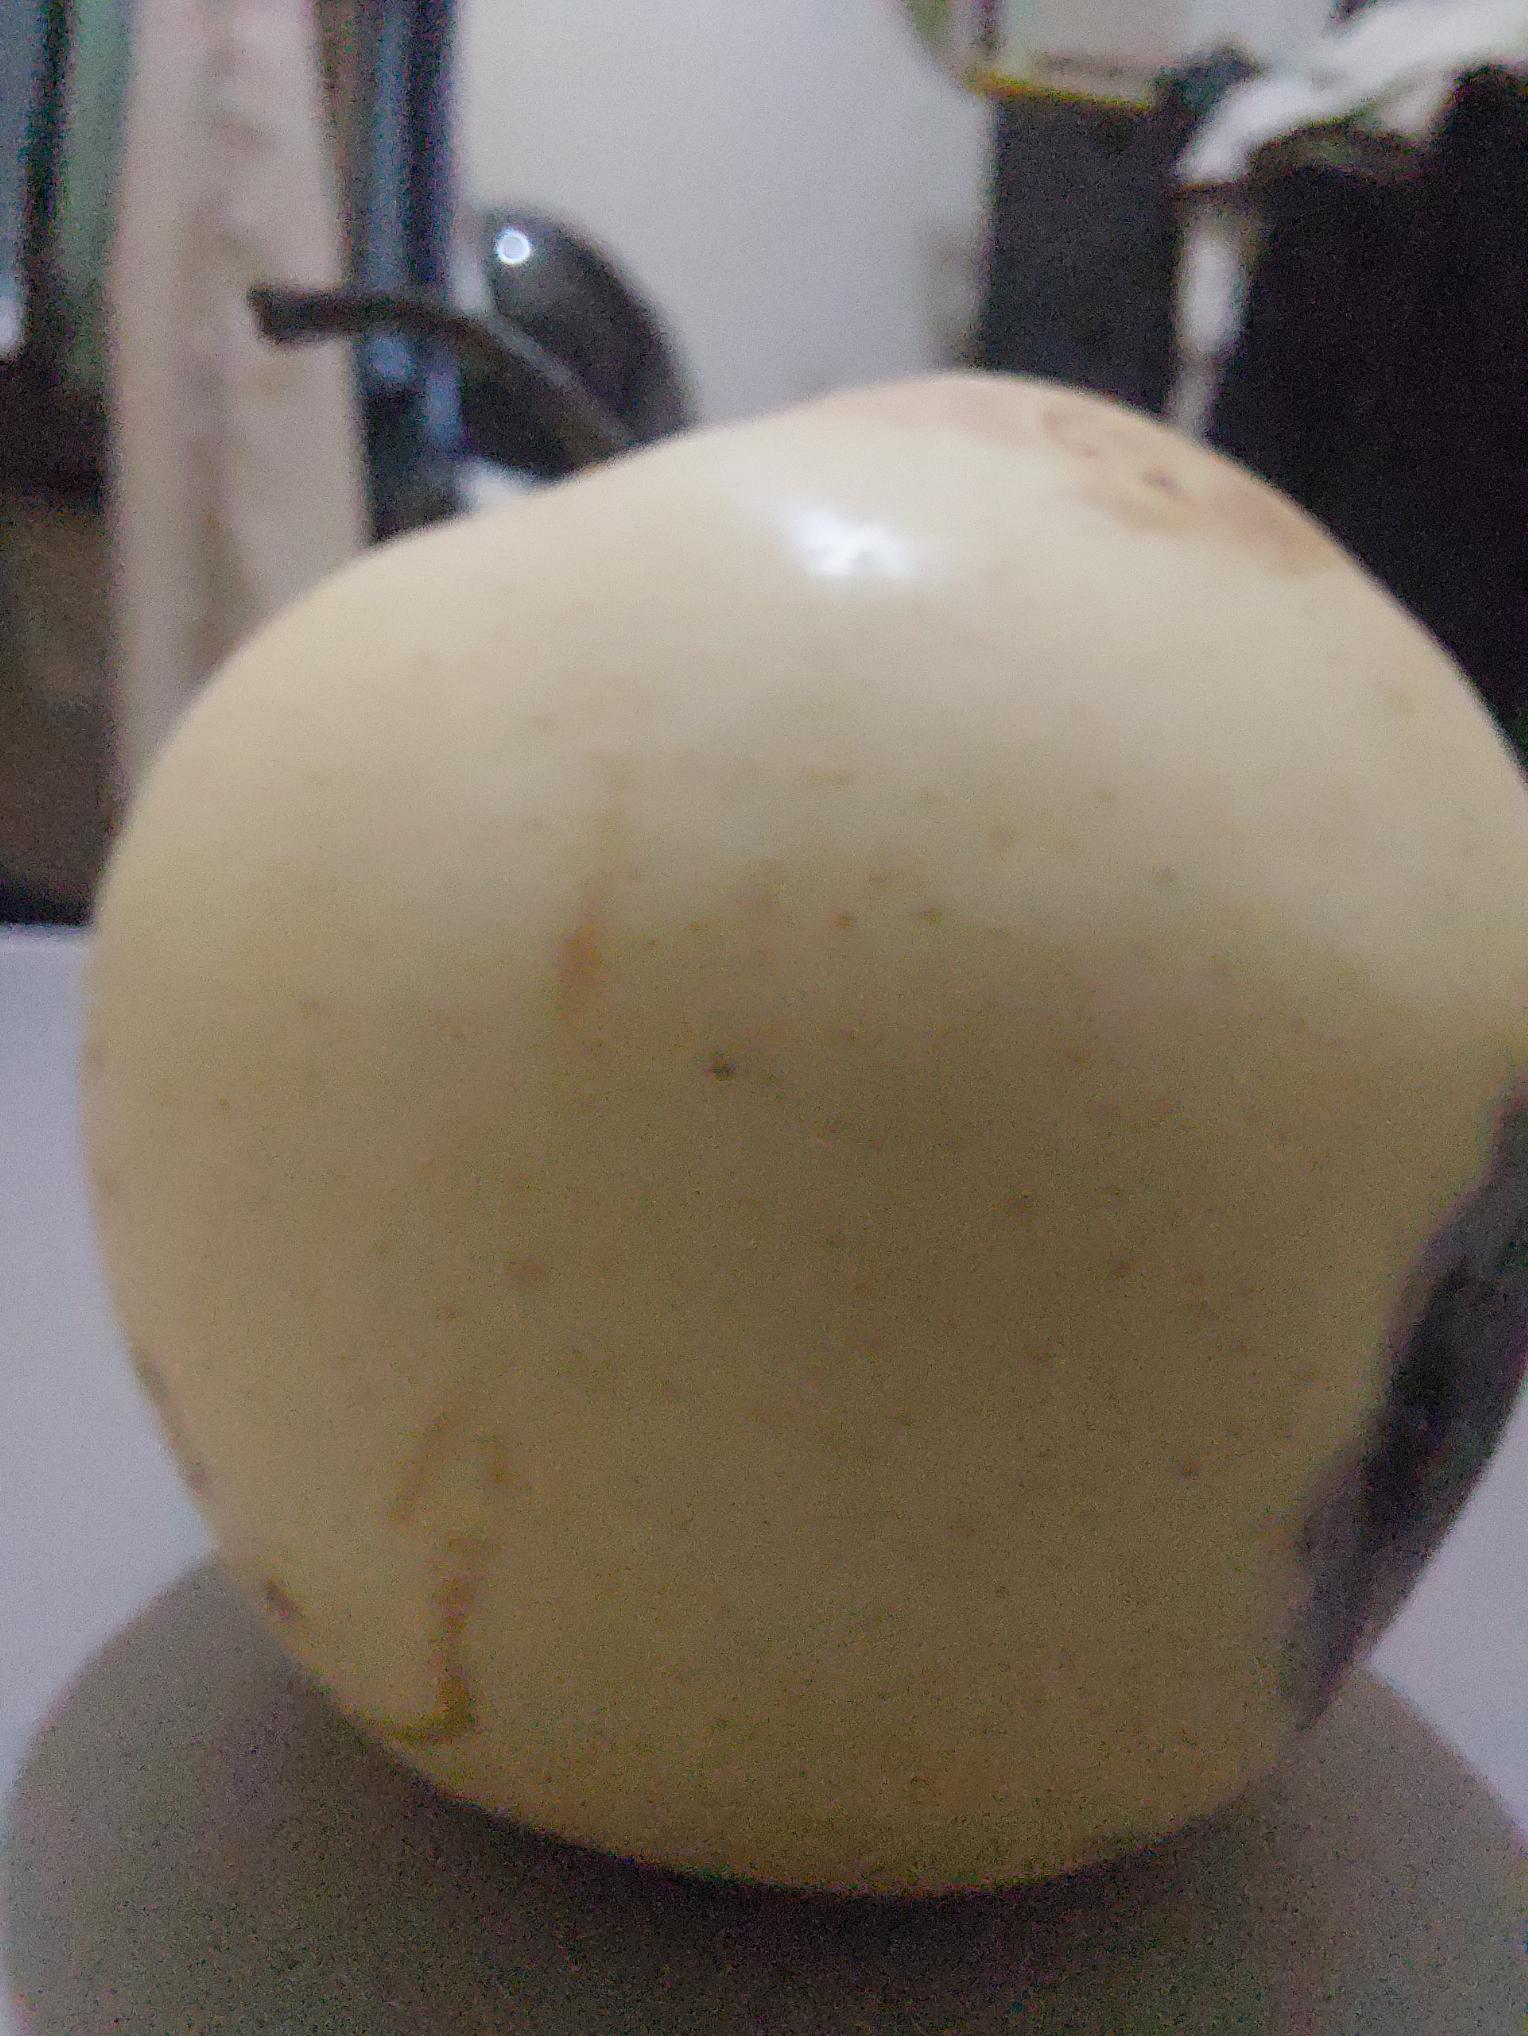Bad Pear: (77, 365, 1528, 1925)
